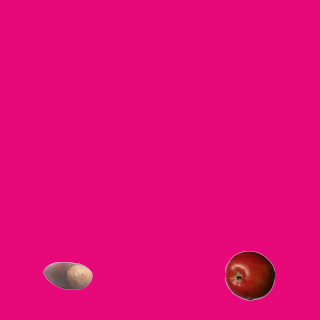Apple Braeburn: (224, 250, 274, 300)
Hazelnut: (42, 250, 92, 300)
